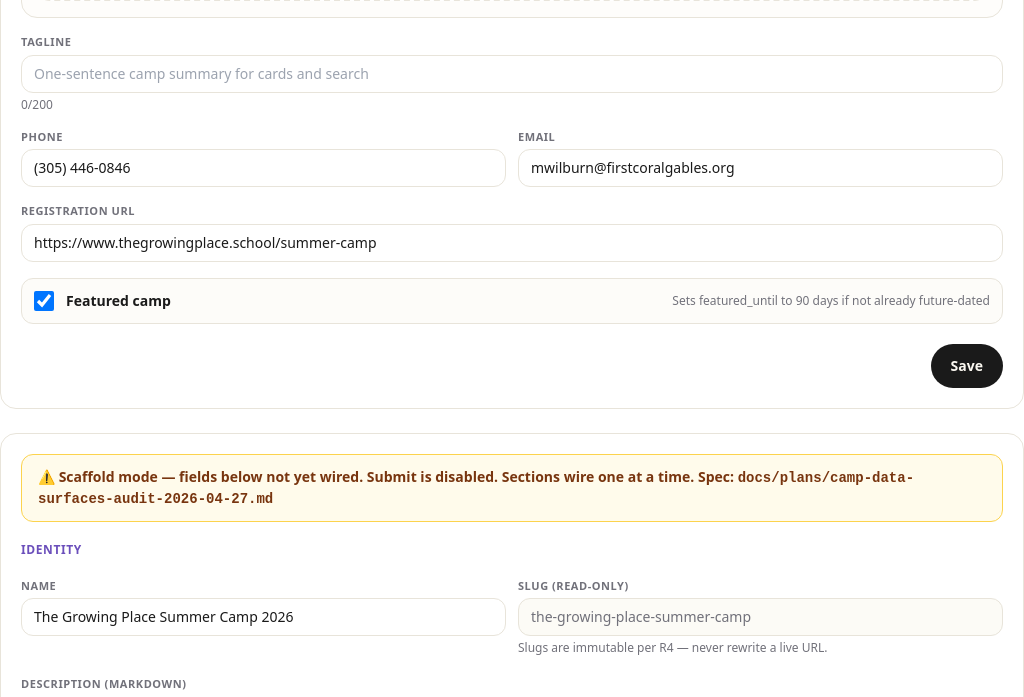
Test case: CampEditForm — wired Quick edit form › renders inline error returned from the server action
(page scrolled)
Click the button with test id "quick-edit-submit". click: (967, 366)
box: [931,344,1003,388]
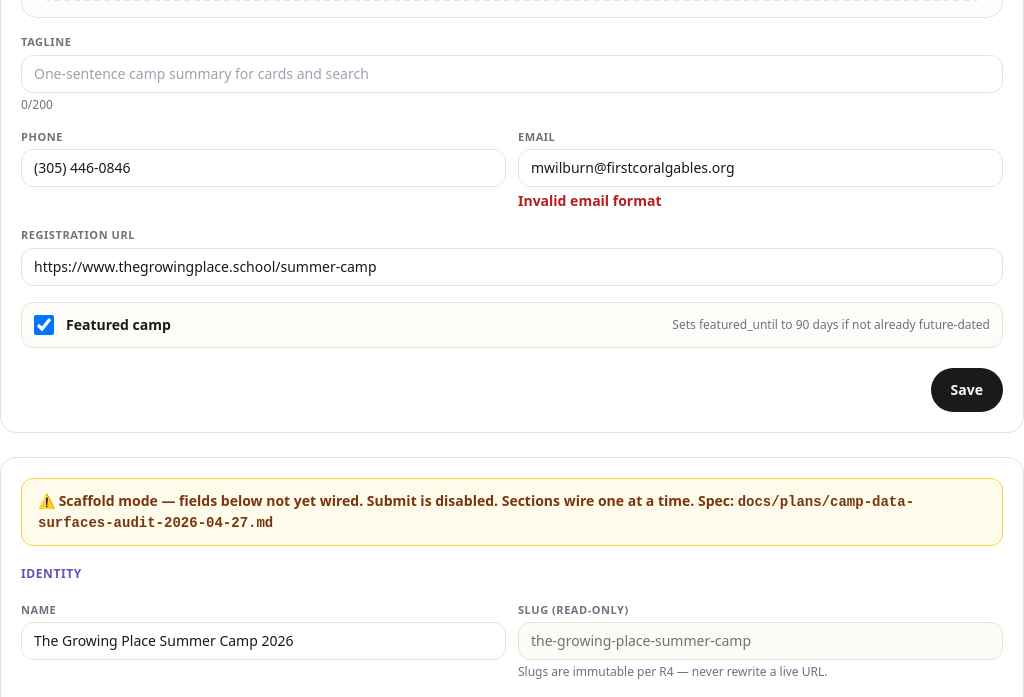
Check: the text "Invalid email format" is shown, box [518,191,662,210]
